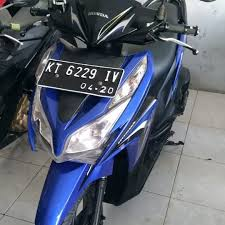plate: (36, 59, 124, 98)
